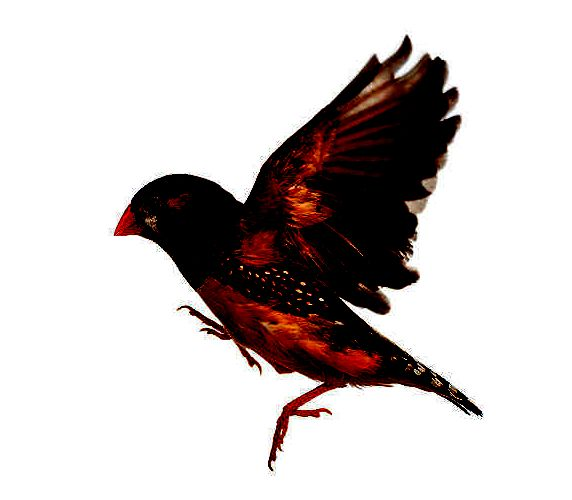Bird: (106, 29, 487, 470)
